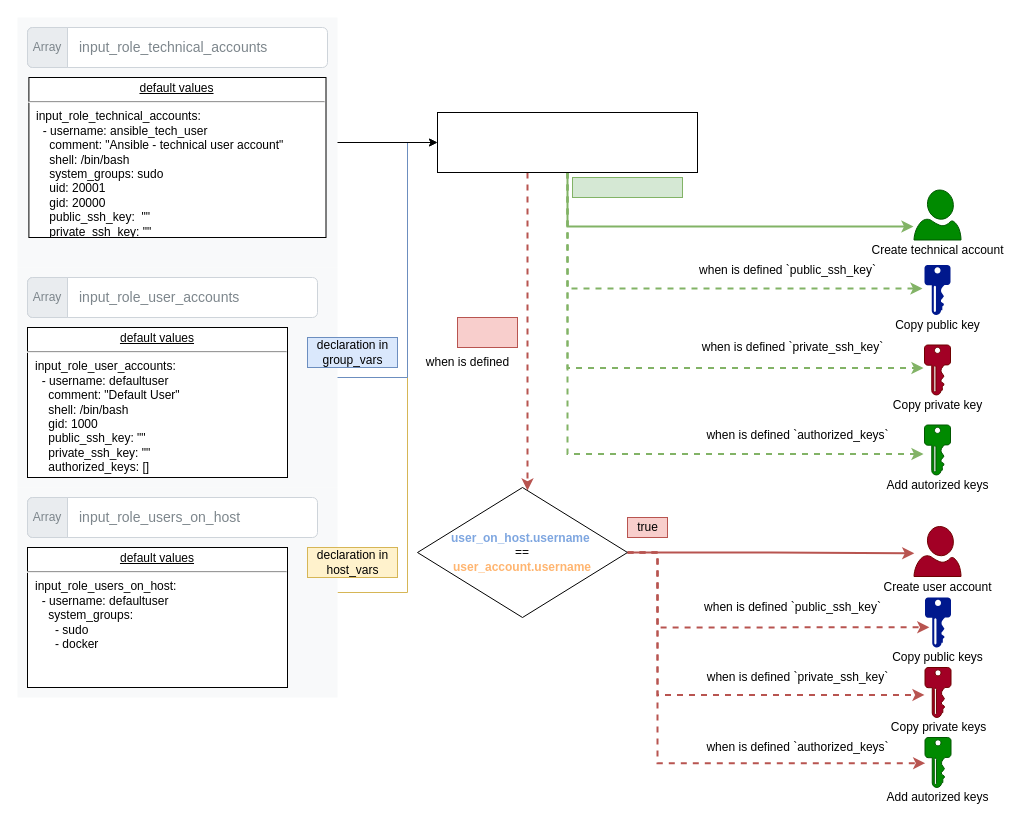
Image size: 1029x824. Some labels were removed from this diagram. The shapes that lost their labels are listed below. From the top down, each one's centre as x and y in pixels, then its label:
At (567,142): "rnp-tools-ansible-roles-usersmanagement".
At (627,187): "technical account".
At (487,332): "user account".
